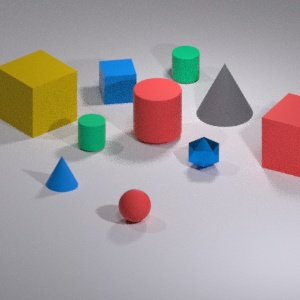lapphuong: (0, 46, 77, 139), (258, 88, 300, 178), (94, 56, 137, 105)
lucgiac: (187, 135, 226, 171)
non: (195, 59, 255, 126), (42, 155, 82, 196)
tron: (115, 186, 154, 230)
tru: (132, 76, 183, 148), (167, 44, 204, 84), (76, 112, 106, 152)
